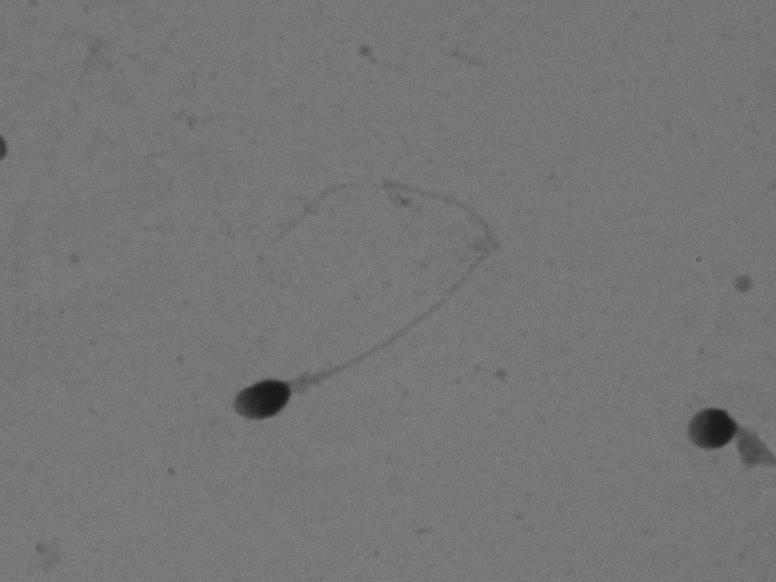Abnormal: (164, 161, 530, 445)
